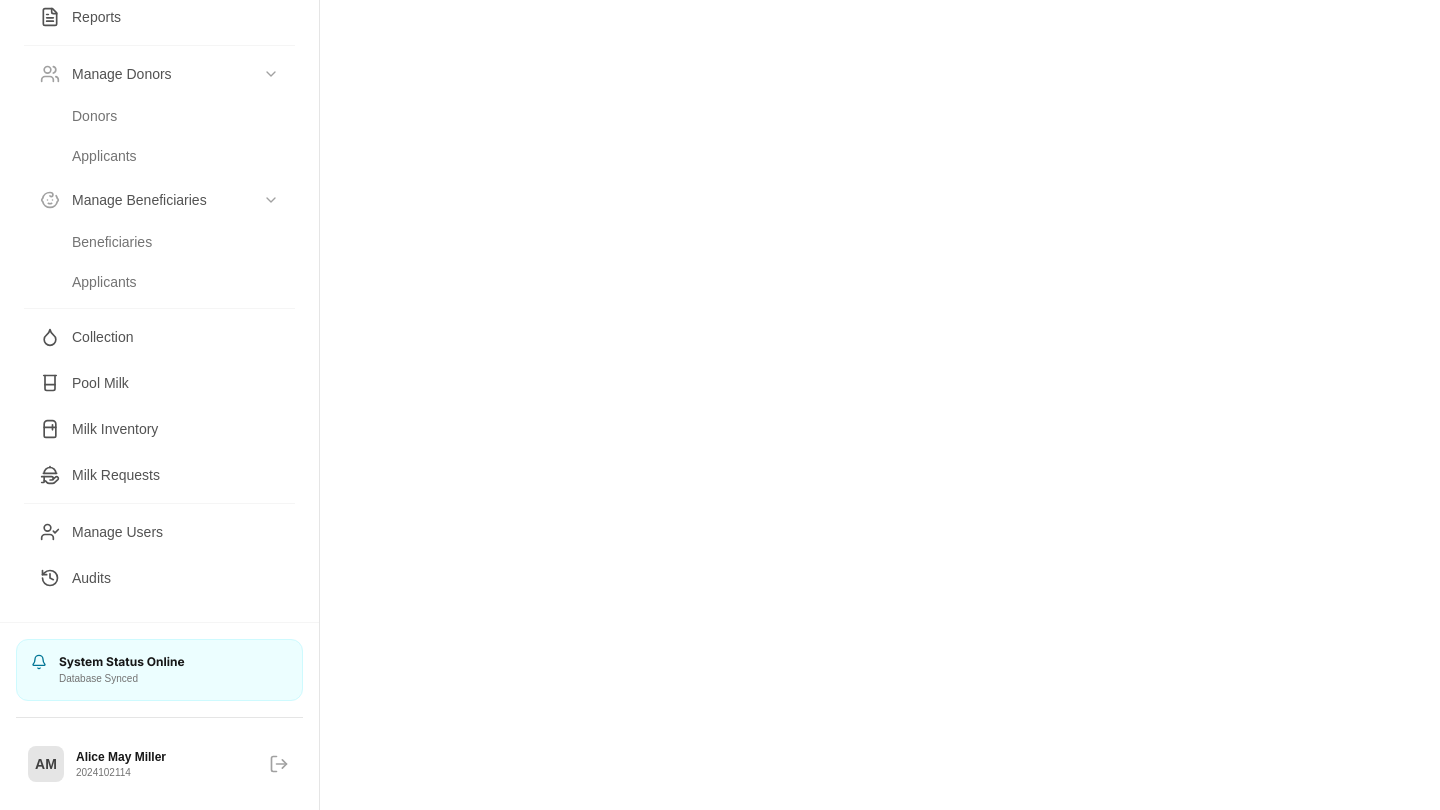
Test: StaffSidebar Component › opens staff profile modal and displays details
(page scrolled)
Click profile card to open modal
Click the button with test id "profile-trigger".
click(97, 764)  # box left=24, top=742, right=170, bottom=786
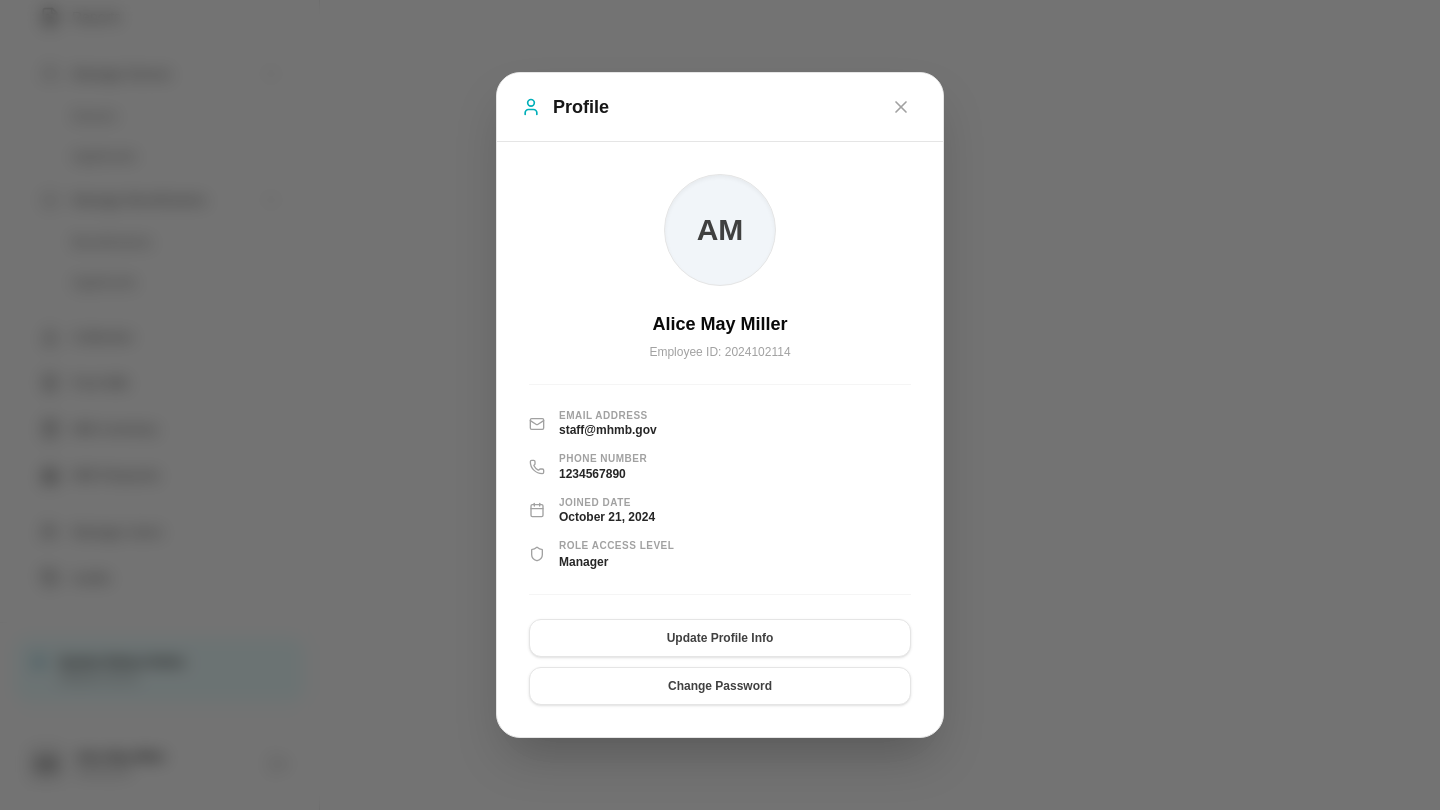
Result: the element with test id "profile-modal" is shown
Result: the heading with test id "profile-modal-name" reads "Alice May Miller" at left=652, top=314, right=788, bottom=334
Result: the heading "Profile" is shown at left=553, top=93, right=609, bottom=121
